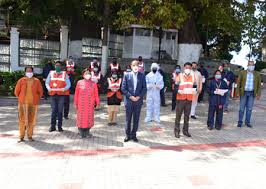mask: (50, 61, 63, 74), (130, 58, 140, 72), (150, 60, 160, 74), (23, 65, 33, 78), (82, 68, 92, 81), (211, 69, 221, 82), (109, 69, 119, 81), (184, 63, 193, 76), (247, 60, 256, 72), (173, 62, 181, 75), (109, 55, 117, 65)
